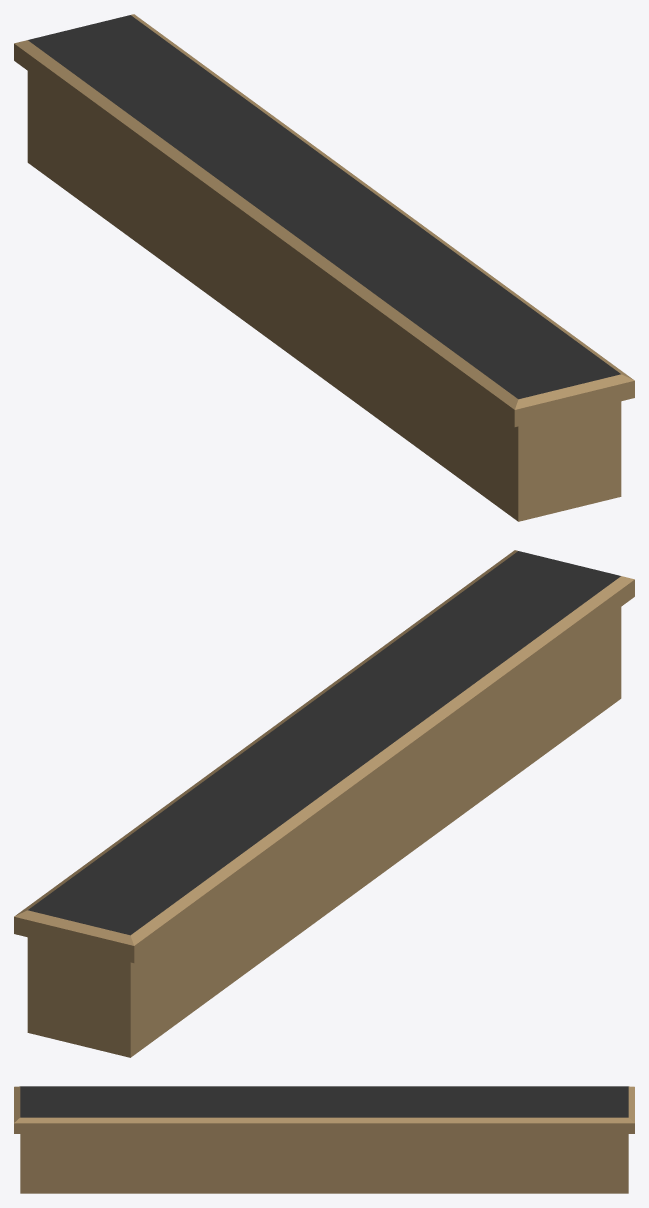
File: Conveyor.fbx
The picture shows the model from 3 angles, top to bottom: view 1: azimuth 30°, elevation 25°; view 2: azimuth 150°, elevation 25°; view 3: azimuth 270°, elevation 25°; orthographic projection. The views are drawn at different scales.
Visible parts, largest first — view 1: Cube.001; view 2: Cube.001; view 3: Cube.001.
Part boxes in pixels (x1,y1,x2,y2): Cube.001: (14,14,634,521); Cube.001: (14,550,634,1057); Cube.001: (14,1086,634,1193).
Size of the model in its own units: 234 by 228 by 1685.
